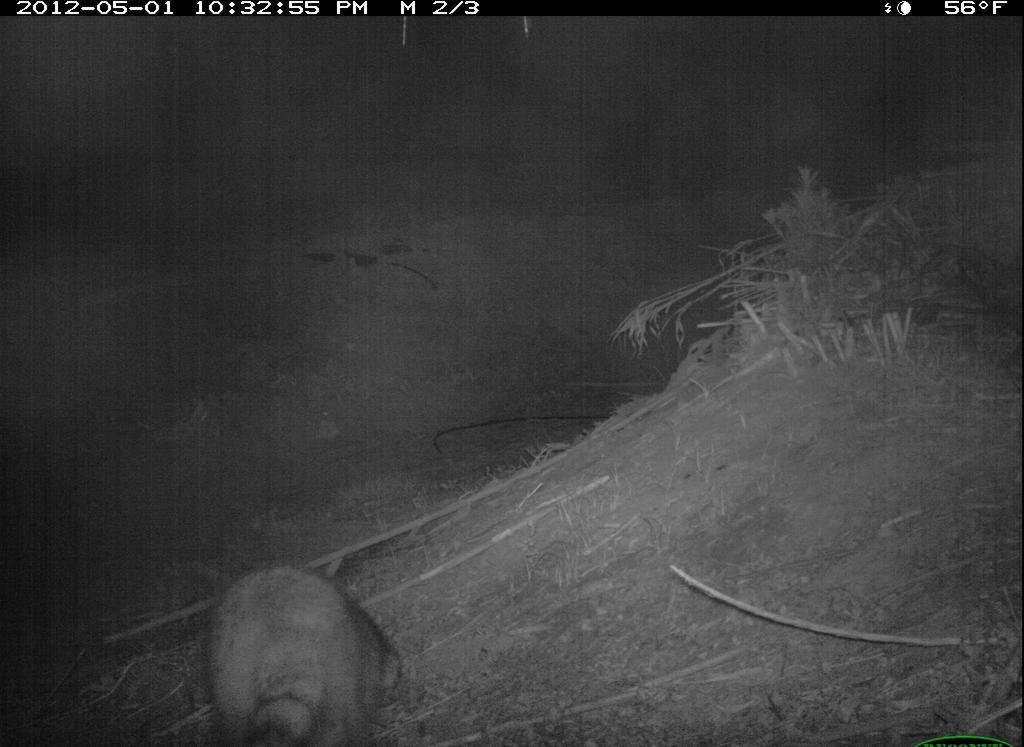raccoon: (198, 560, 406, 747)
